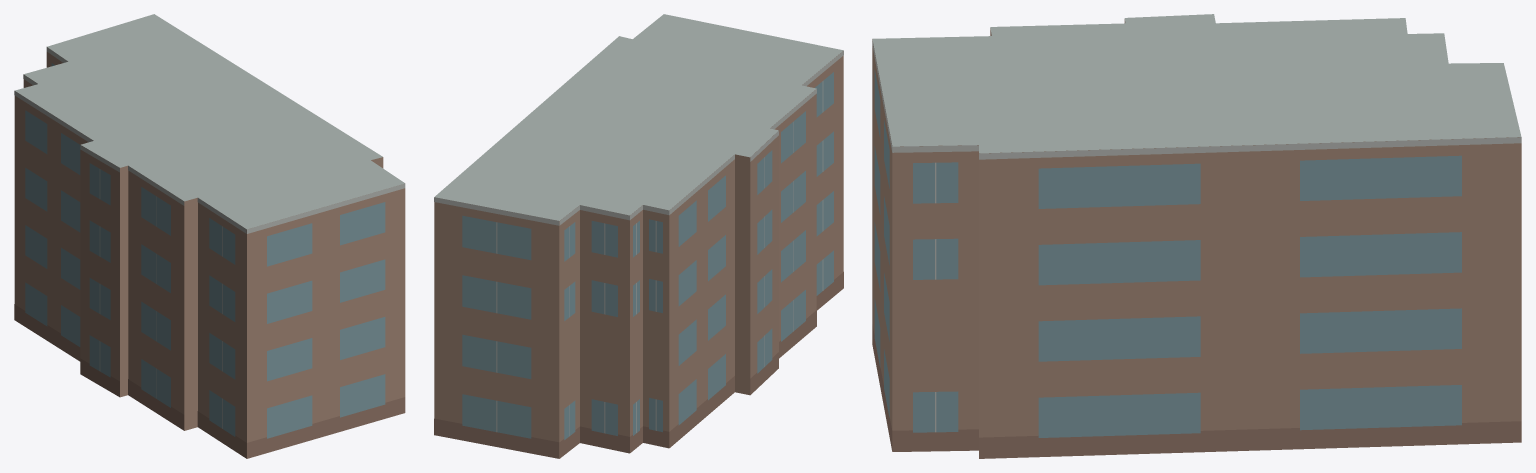
The model's file is survey-upis-33001650.glb.
3 views of the same model, side by side, from view 1: azimuth 30°, elevation 25°; view 2: azimuth 150°, elevation 25°; view 3: azimuth 270°, elevation 25° (orthographic). The views are drawn at different scales.
Parts seen in each view (by area): view 1: survey-upis-33001650.tmp; view 2: survey-upis-33001650.tmp; view 3: survey-upis-33001650.tmp.
Part boxes in pixels (box(x1,y1,x2,y2)): survey-upis-33001650.tmp: box(14, 14, 405, 458); survey-upis-33001650.tmp: box(434, 14, 843, 458); survey-upis-33001650.tmp: box(872, 14, 1521, 458).
Size of the model in its own units: 11.66 by 11.9 by 22.93.
